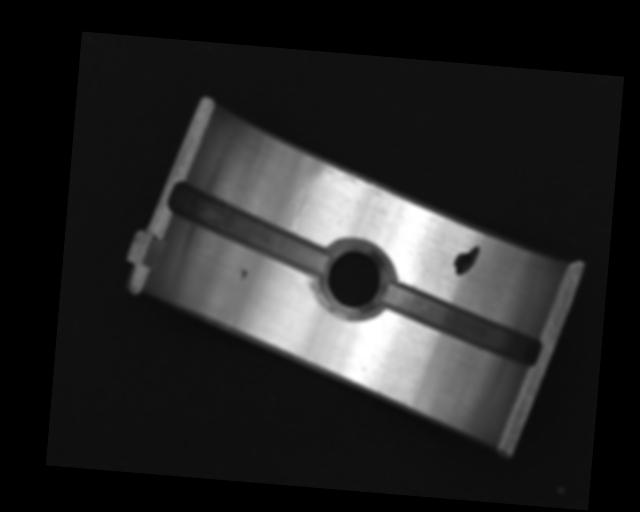blot: (452, 244, 481, 277)
bruise: (238, 269, 248, 281)
gap: (166, 181, 331, 277), (380, 286, 544, 368)
hole: (317, 240, 388, 322)
nick: (288, 185, 312, 231)
